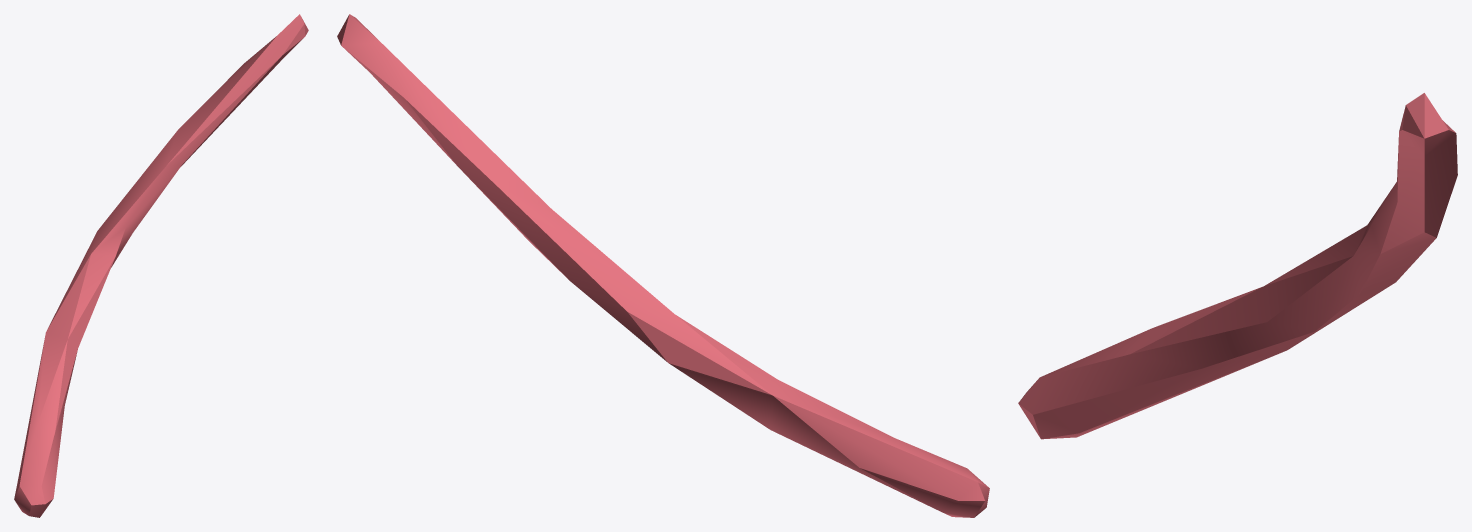
The model's file is fma50519_fj5228.glb.
3 views of the same model, side by side, from view 1: azimuth 30°, elevation 25°; view 2: azimuth 150°, elevation 25°; view 3: azimuth 270°, elevation 25° (orthographic). The views are drawn at different scales.
Visible parts, largest first — view 1: FMA50519_FJ5228; view 2: FMA50519_FJ5228; view 3: FMA50519_FJ5228.
Part boxes in pixels (x1,y1,x2,y2): FMA50519_FJ5228: (14, 14, 308, 517); FMA50519_FJ5228: (337, 14, 989, 517); FMA50519_FJ5228: (1018, 93, 1457, 439).
Size of the model in its own units: 0.00647 by 0.00559 by 0.00321.
